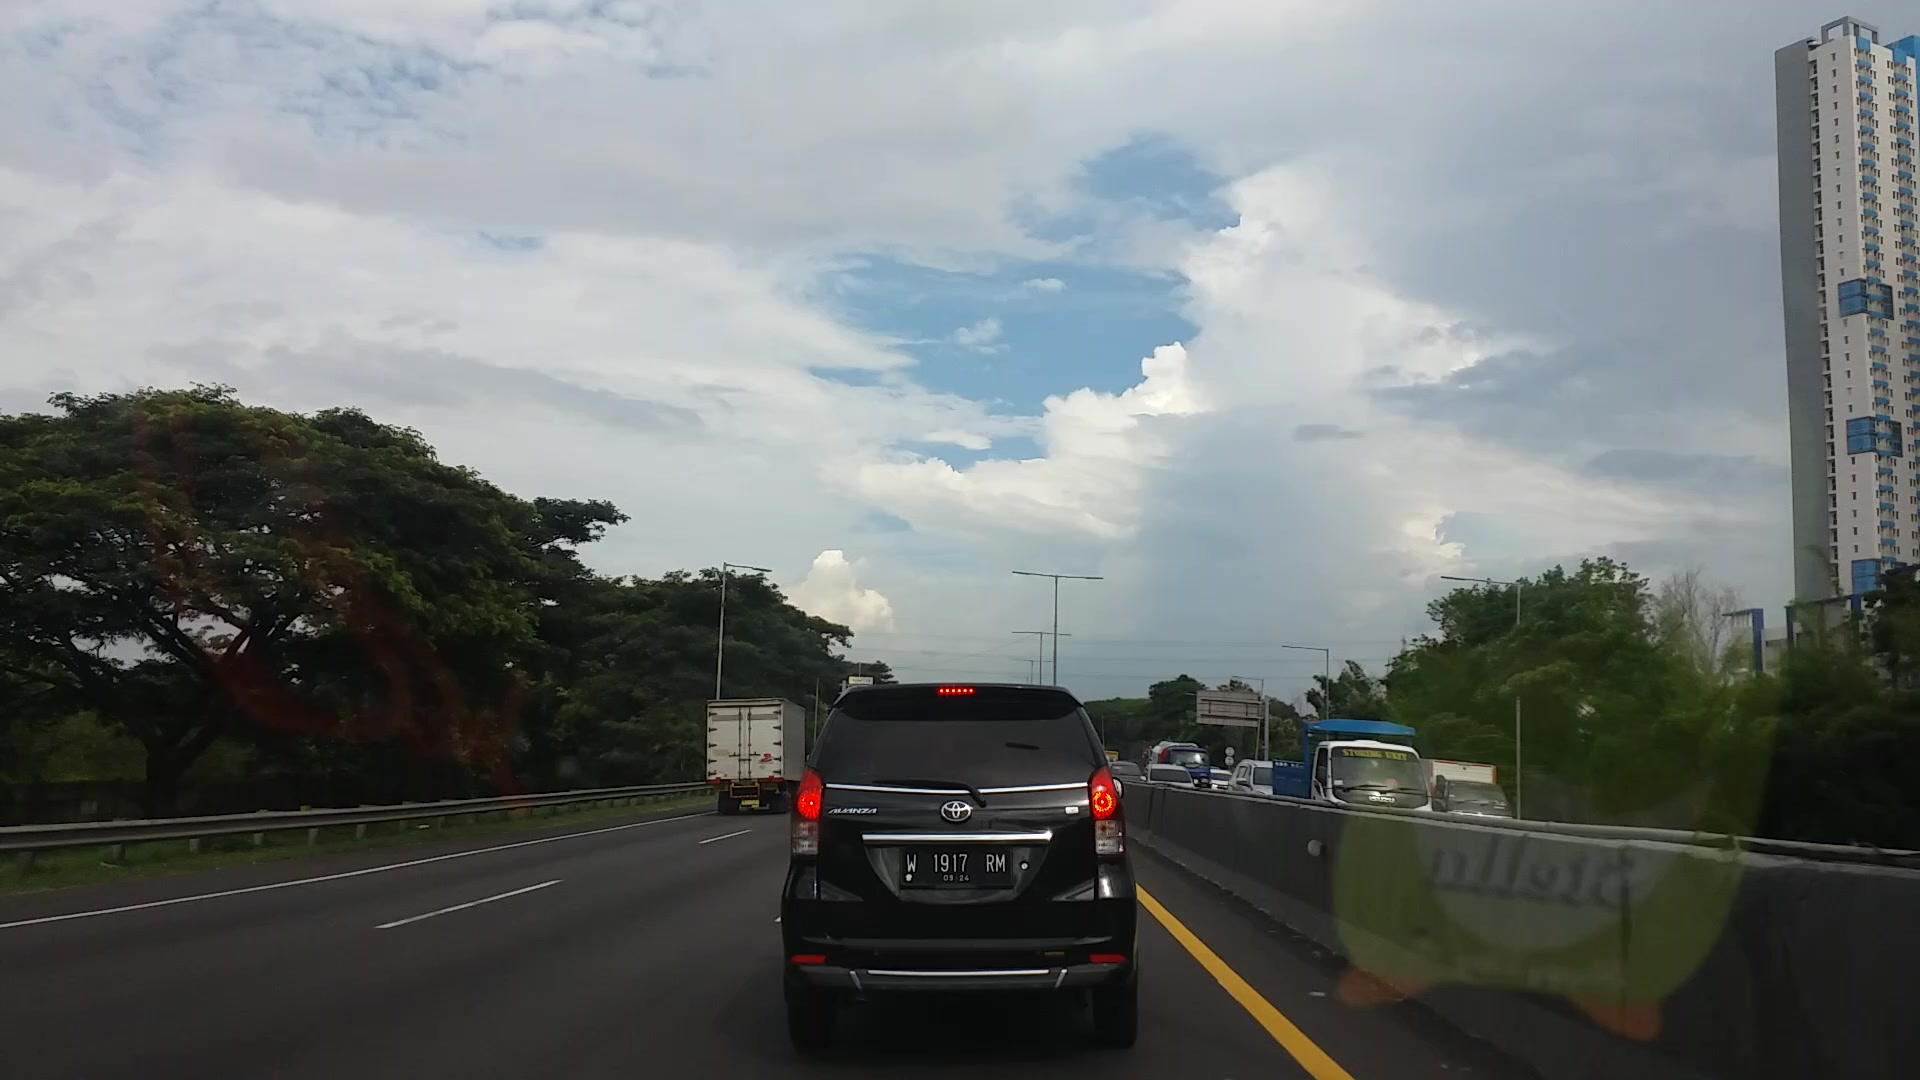plate_positive: (899, 847, 1013, 890)
